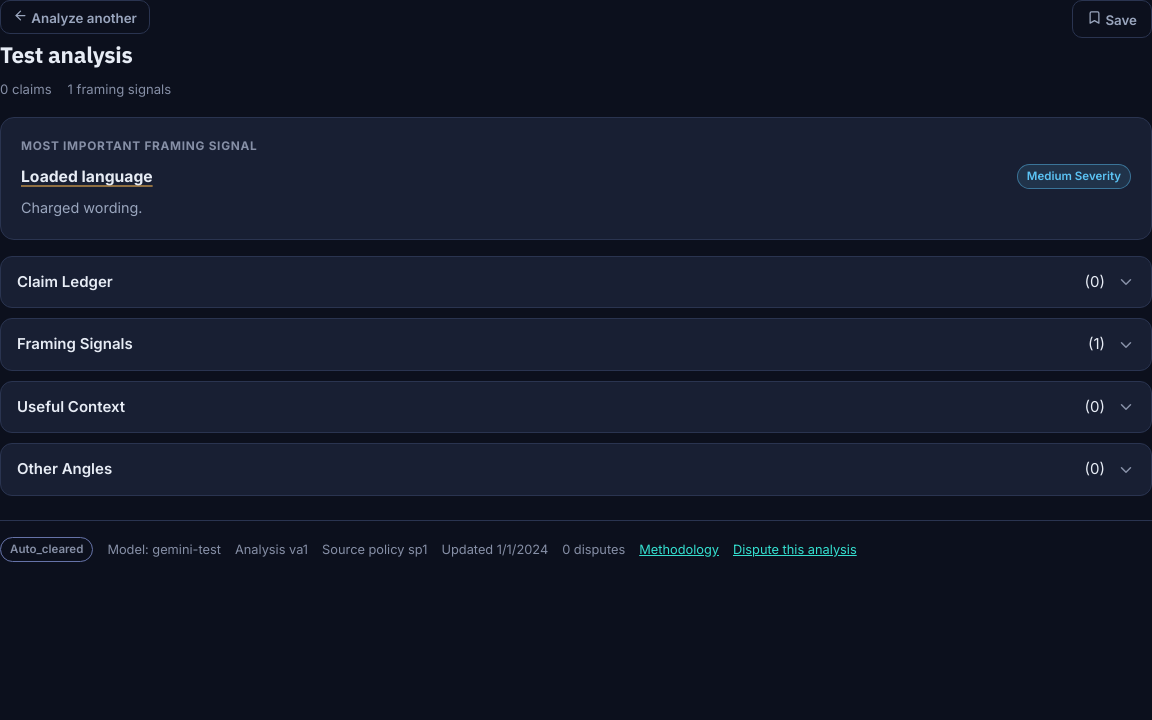
Test: Report footer + dispute modal wiring › submits a dispute and shows the received confirmation
Click the button "Dispute this analysis". click: (795, 550)
box: [733,540,857,559]
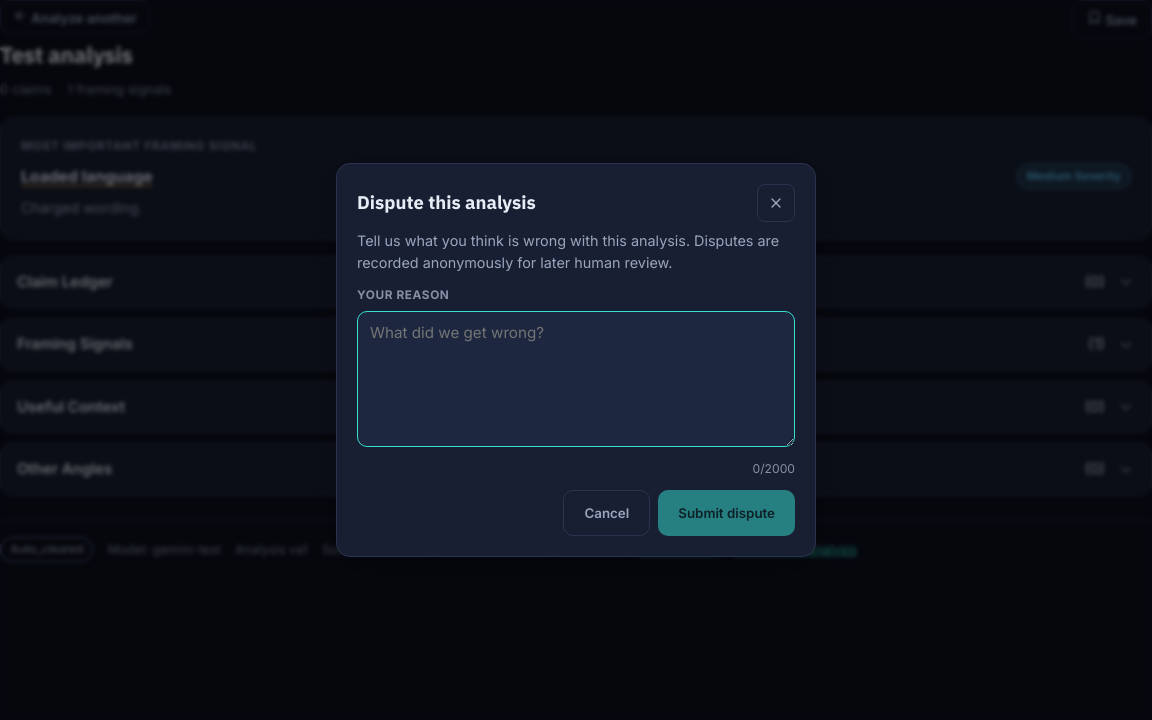
Type "This claim was mischaracterized." into the text box labelled "Your reason". click: (576, 379)
box: [357,311,795,447]
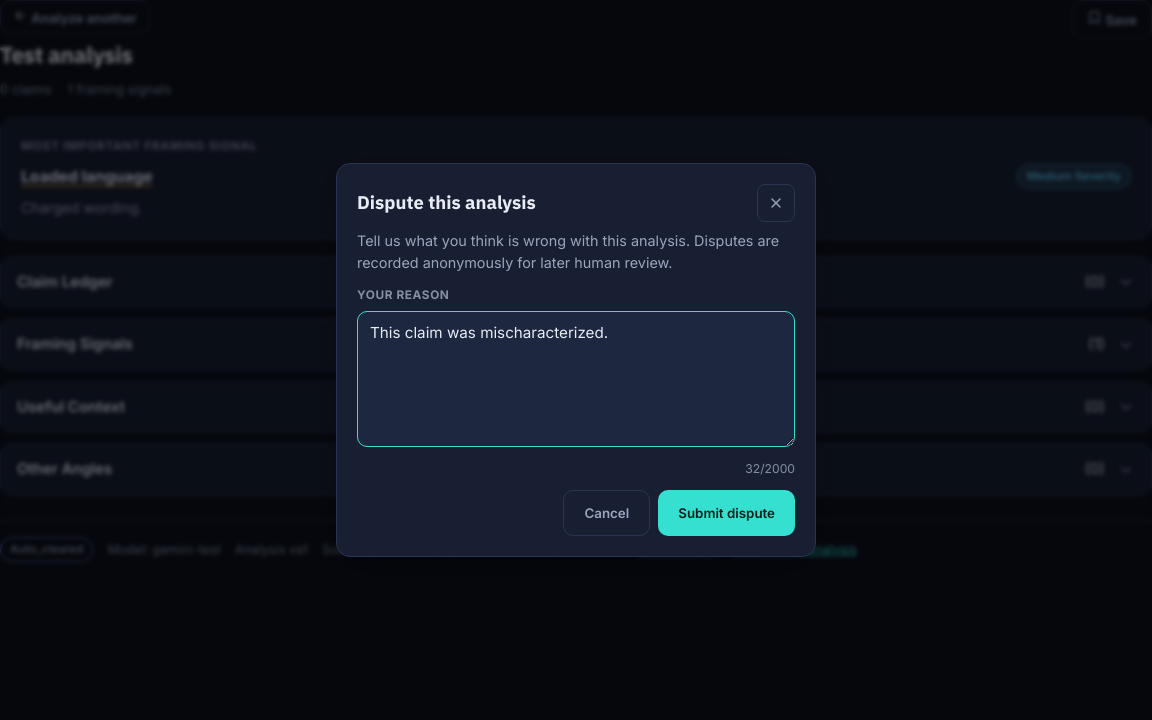
Click the button "Submit dispute". click: (727, 513)
box: [658,490,795,536]
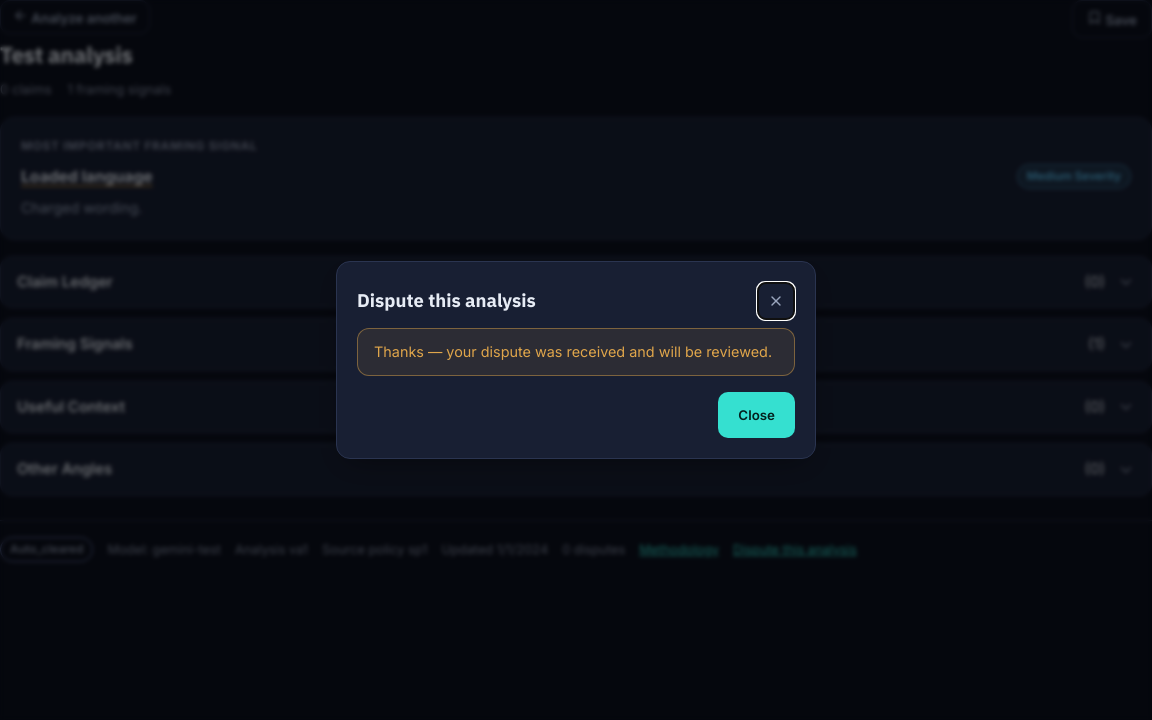
Result: the text "Thanks — your dispute was received and will be reviewed." is shown at [357,328,795,376]
